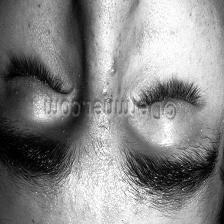Non-Cancerous Skin Condition: (60, 130, 139, 224), (90, 53, 124, 97)
